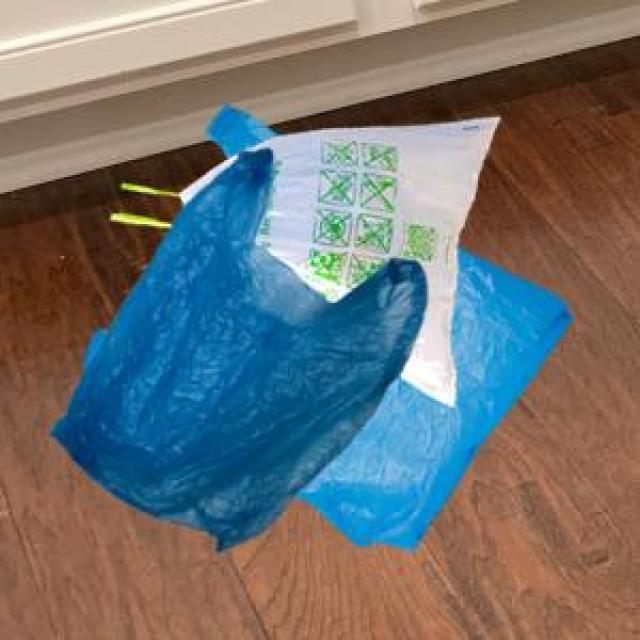waste: (43, 115, 578, 556), (262, 125, 580, 318)
